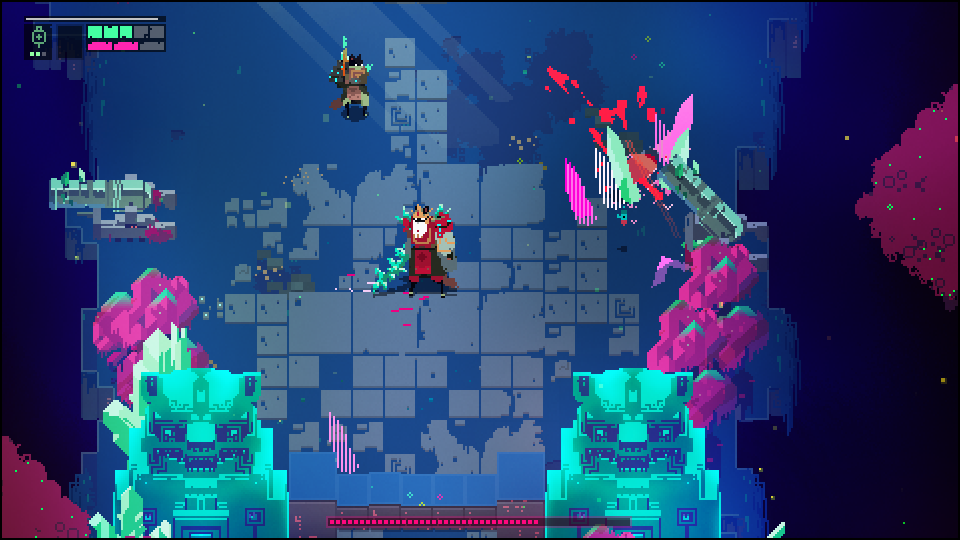hanged_crys: (656, 90, 698, 158), (560, 157, 599, 229), (602, 126, 638, 201)
hanged_man: (370, 200, 458, 297)
